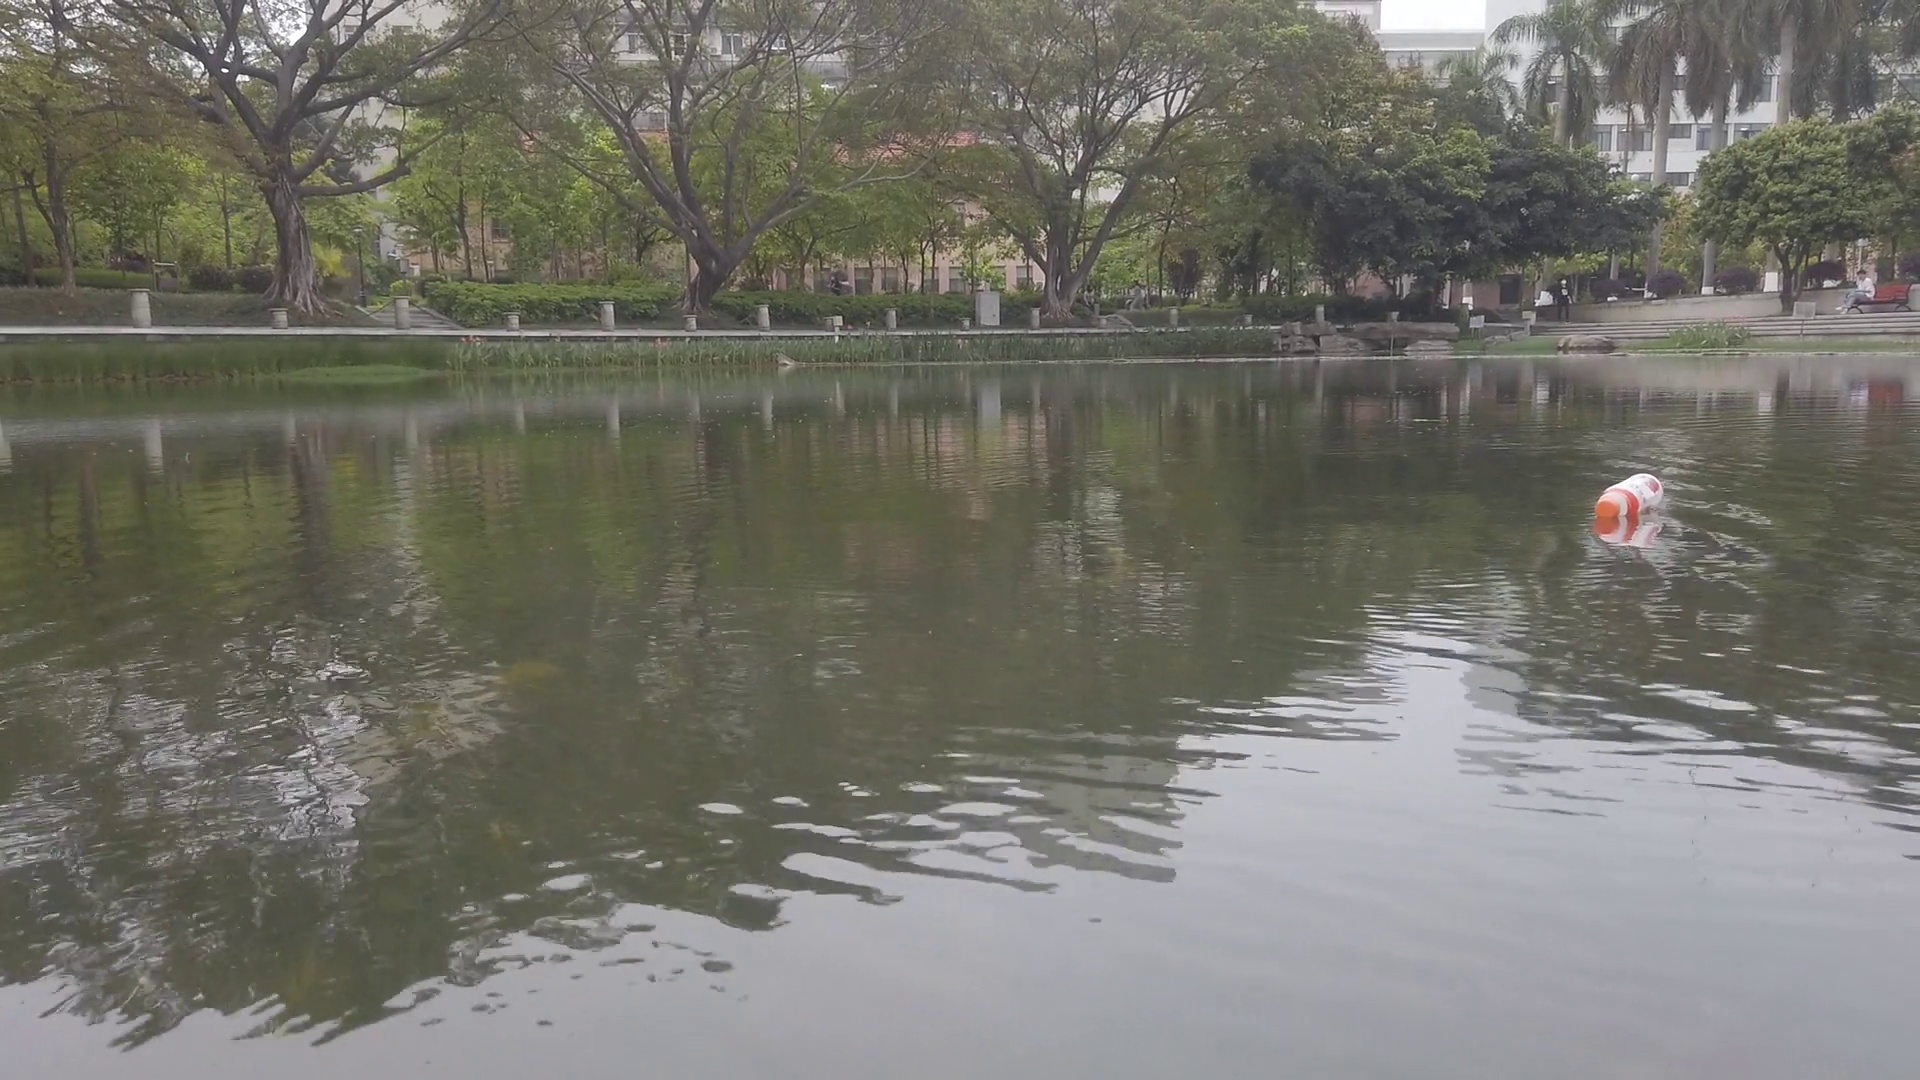bottle: (1593, 469, 1667, 521)
